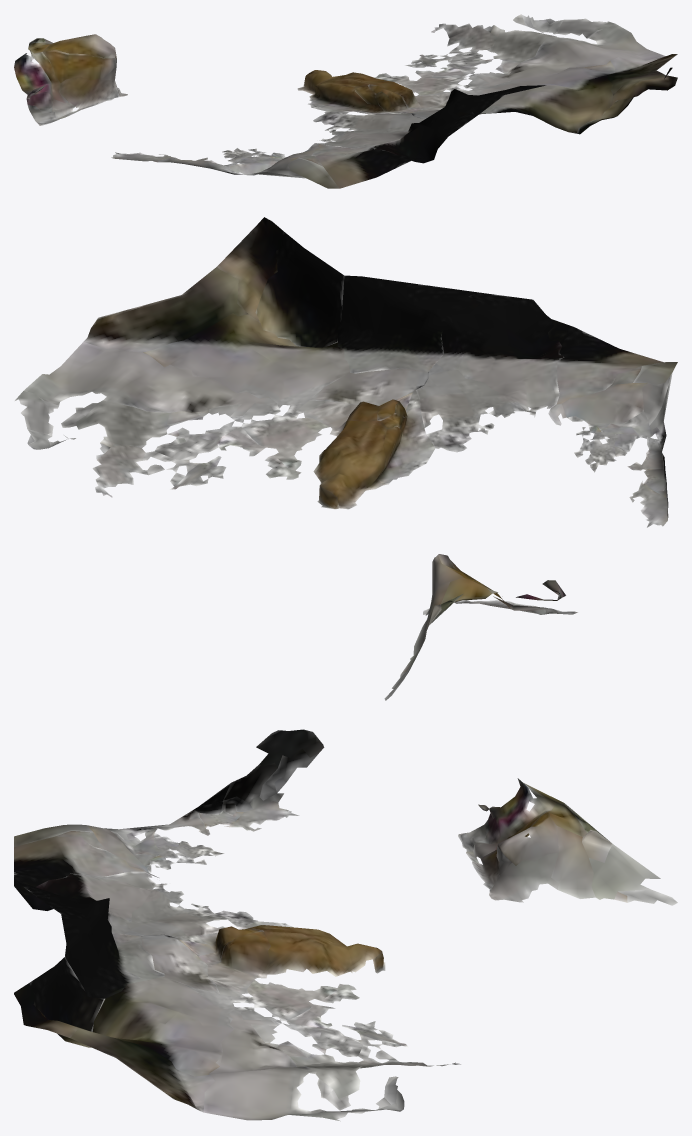
The model's file is hall.glb.
3 views of the same model, one above another, from view 1: azimuth 30°, elevation 25°; view 2: azimuth 150°, elevation 25°; view 3: azimuth 270°, elevation 25° (orthographic). The views are drawn at different scales.
Bounding box in the file's own units: 2.22 × 0.5274 × 2.05.
Materials: 1 (1 with a texture image).
